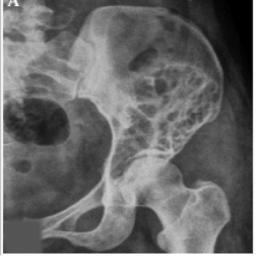cancer: (114, 61, 223, 176)
